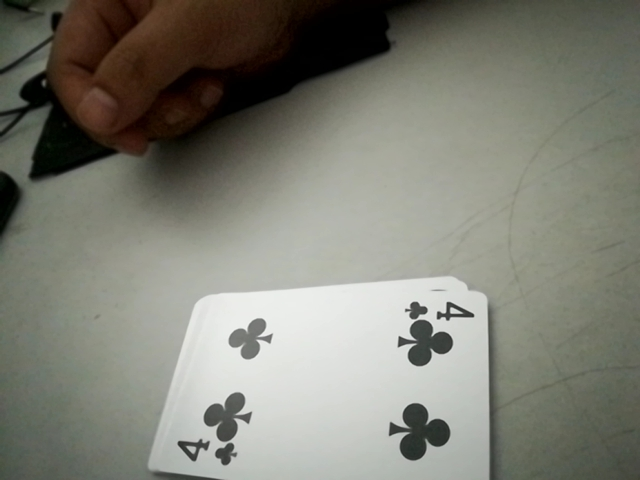mh 4: (166, 433, 240, 472), (405, 291, 480, 326)
